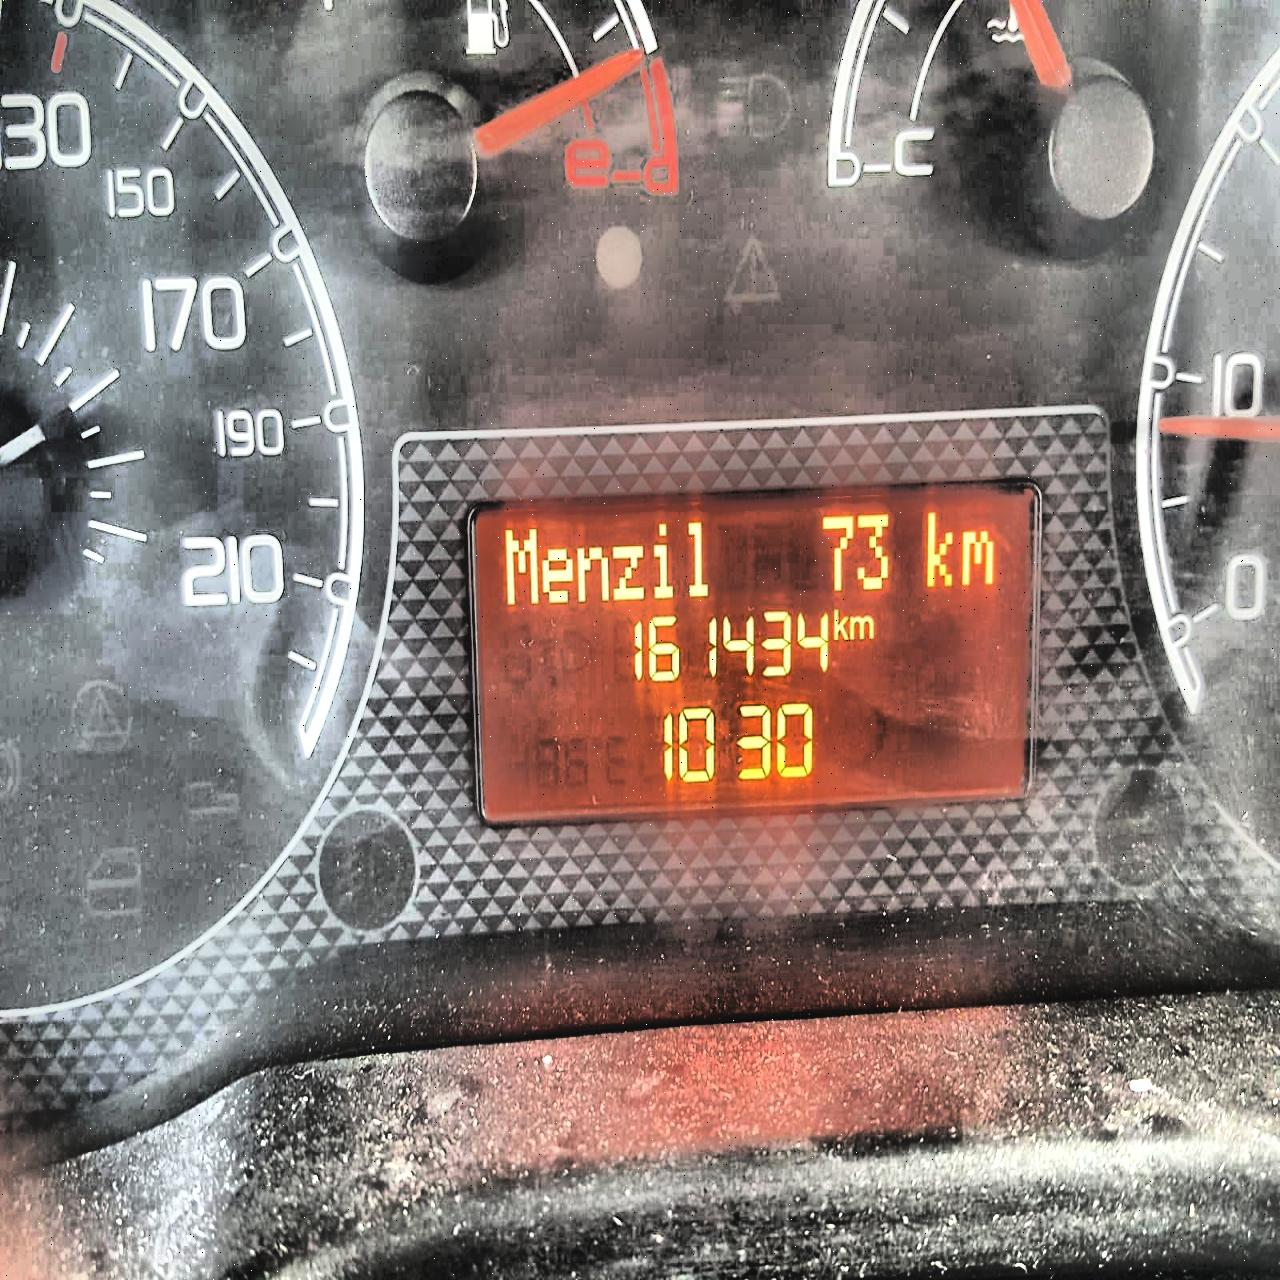0: (678, 702, 716, 792), (775, 702, 813, 784)
1: (655, 708, 674, 790), (628, 610, 645, 696), (707, 611, 722, 690)
3: (856, 506, 893, 597), (734, 696, 771, 787), (761, 610, 790, 682)
4: (721, 610, 757, 682), (792, 602, 829, 675)
6: (648, 612, 680, 690)
7: (818, 502, 856, 593)
X: (502, 524, 538, 608), (649, 516, 679, 604), (924, 506, 954, 591), (960, 524, 998, 586), (572, 544, 610, 604), (685, 515, 709, 605), (539, 543, 570, 604), (615, 543, 644, 602), (850, 613, 874, 644), (828, 607, 847, 645)
odometer: (456, 474, 1050, 835)
